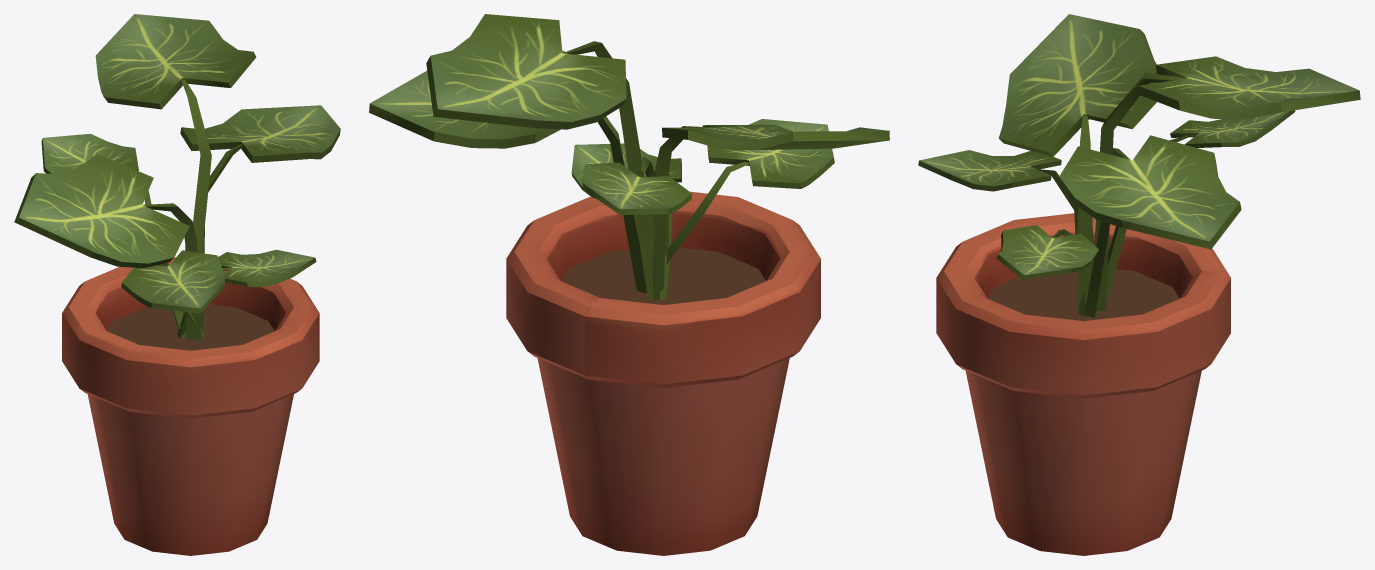
The model's file is plant.fbx.
The picture shows the model from 3 angles, left to right: view 1: azimuth 30°, elevation 25°; view 2: azimuth 150°, elevation 25°; view 3: azimuth 270°, elevation 25°; orthographic projection. The views are drawn at different scales.
Visible parts, largest first — view 1: 화분004; view 2: 화분004; view 3: 화분004.
Part boxes in pixels (x1,y1,x2,y2): 화분004: (14,14,340,555); 화분004: (369,14,889,555); 화분004: (918,14,1360,555).
Bounding box in the file's own units: 32.48 × 35.24 × 29.69.
